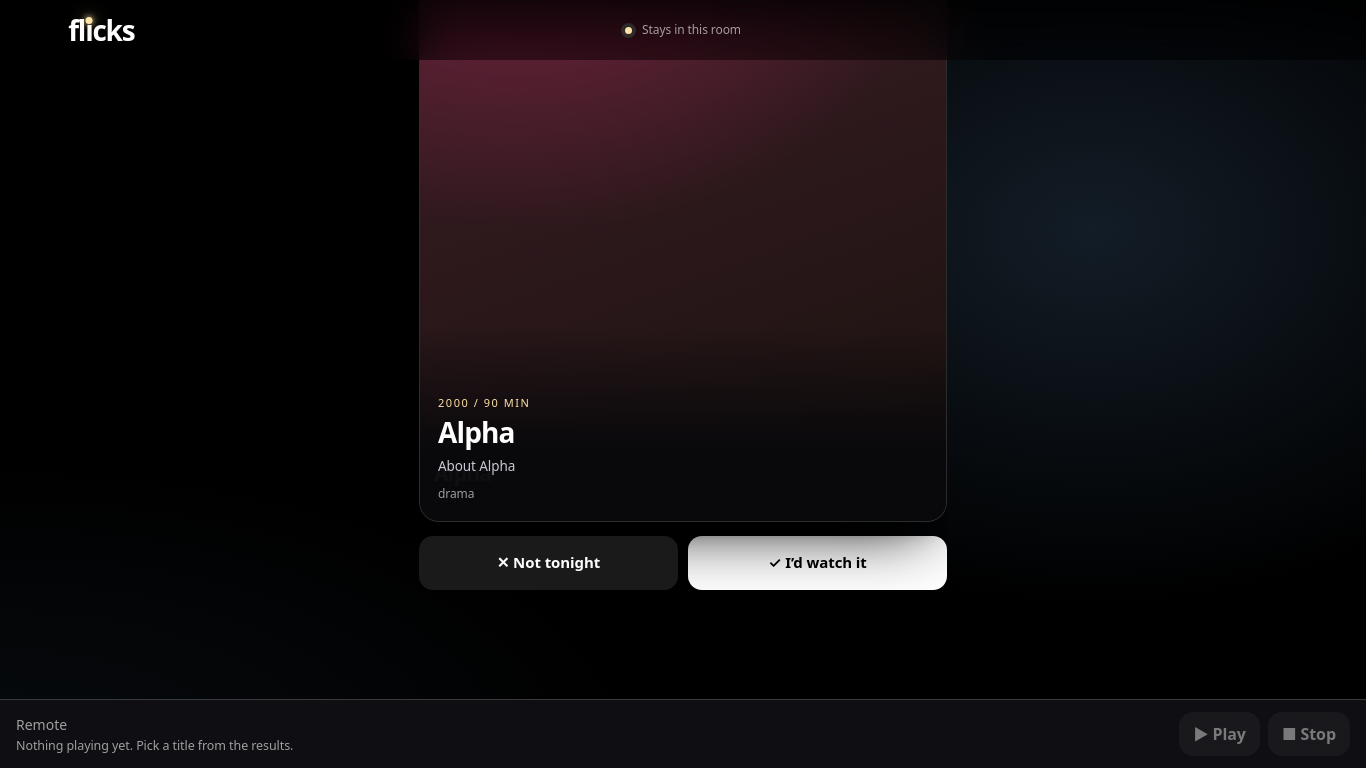
Test: a poll that started before a vote cannot overwrite the vote
(page scrolled)
Expected: the heading "Alpha" is shown, [438,414,515,452]
What coordinates should you click on to do the following:
click the button "✓ I’d watch it"
I would click on:
 (818, 562)
Its box is [688,536,947,590].
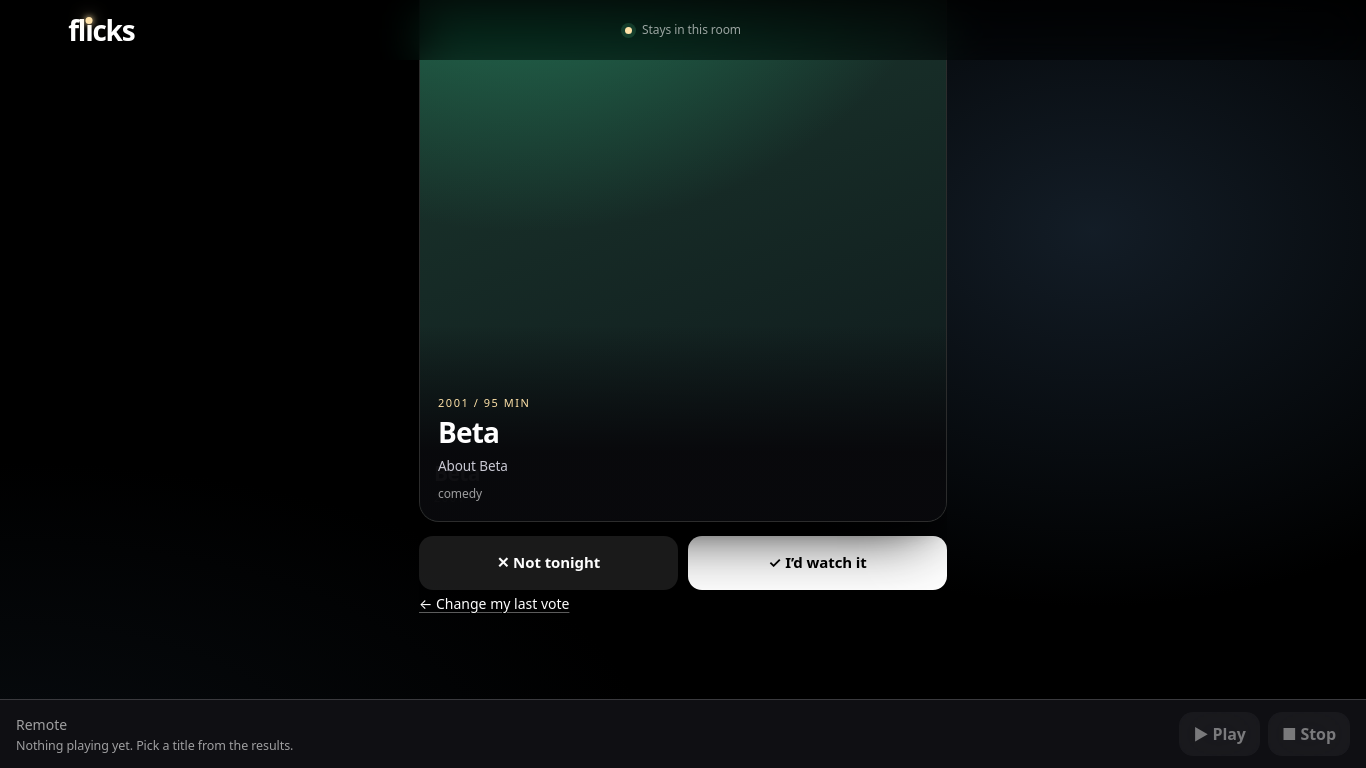
Now the heading "Beta" is shown, box [438,414,499,452]
